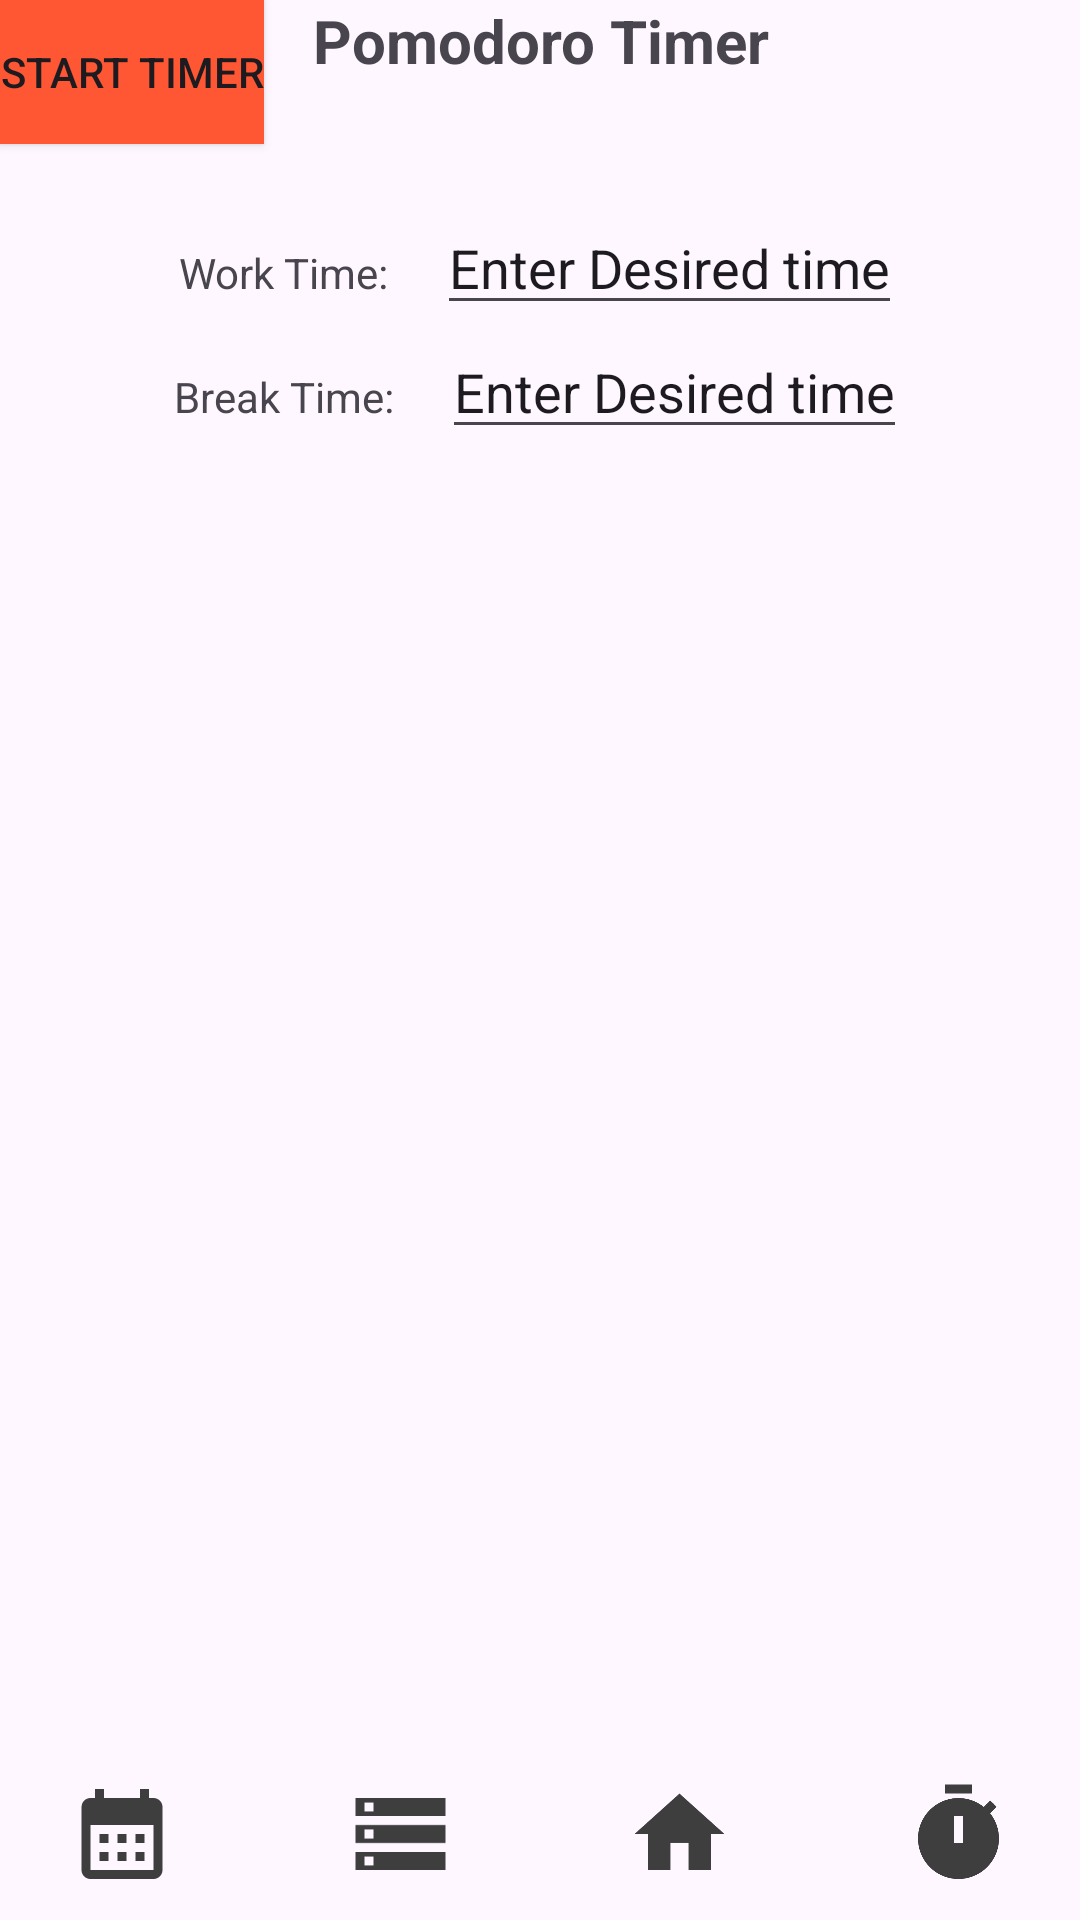

Named icons in this screenshot (1080w x 1920h) and their centers, point (x, y):
calendar: point (122, 1834)
home: point (679, 1831)
storage: point (400, 1834)
timer: point (958, 1831)
